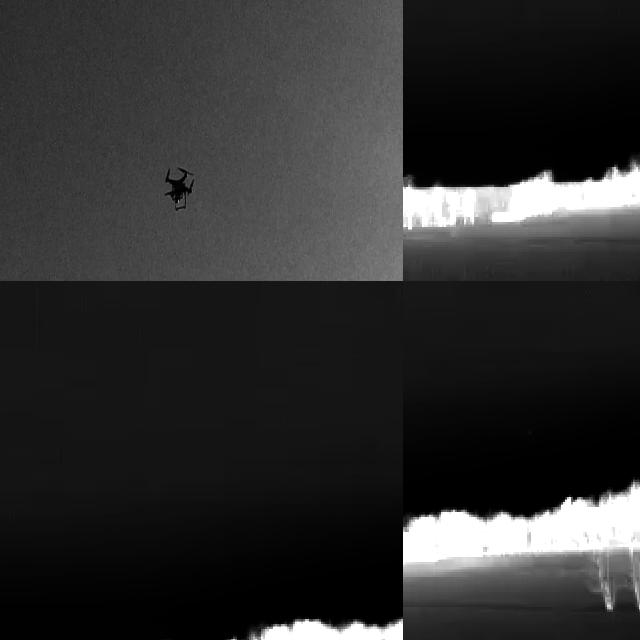0: (511, 420, 547, 454)
drone: (165, 163, 195, 215)
